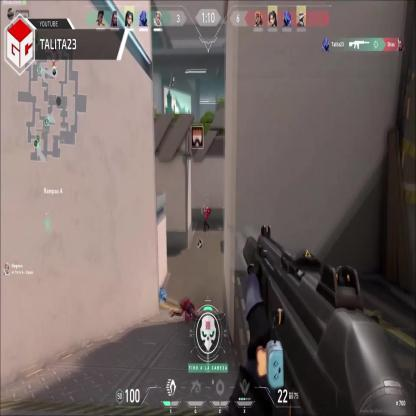enemy: (202, 205, 210, 230)
enemy_head: (204, 206, 206, 212)
